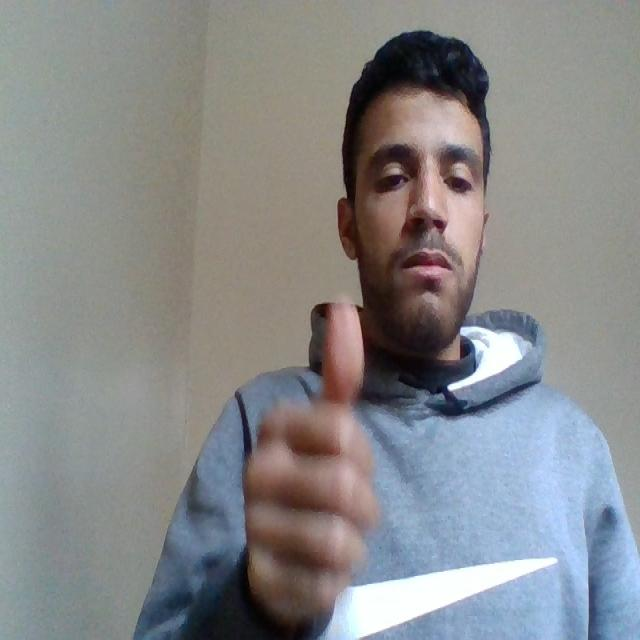Yes: (231, 291, 390, 638)
